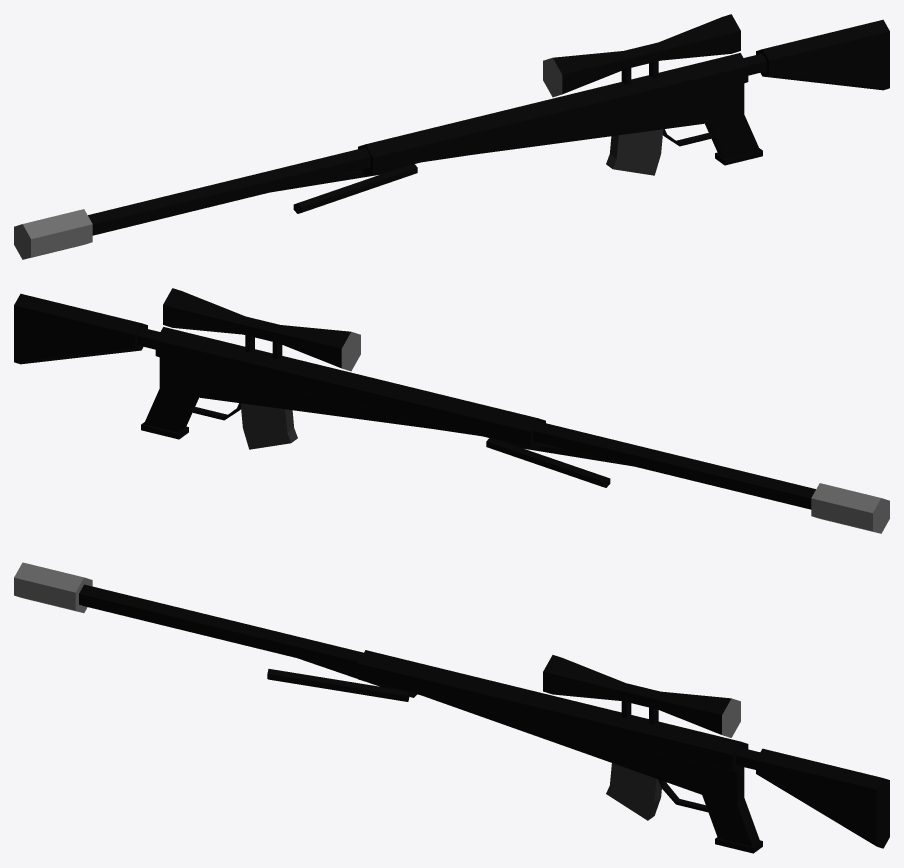
File: SniperRifle.fbx
3 renders of one model, top to bottom at view 1: azimuth 30°, elevation 25°; view 2: azimuth 150°, elevation 25°; view 3: azimuth 330°, elevation 25°, orthographic.
Visible parts, largest first — view 1: pCylinder12; view 2: pCylinder12; view 3: pCylinder12.
Boxes of the visible parts, x1=… form: pCylinder12: x1=14, y1=14, x2=889, y2=259; pCylinder12: x1=14, y1=288, x2=889, y2=533; pCylinder12: x1=14, y1=562, x2=889, y2=853.
Bounding box in the file's own units: 166 × 26.7 × 11.41.
